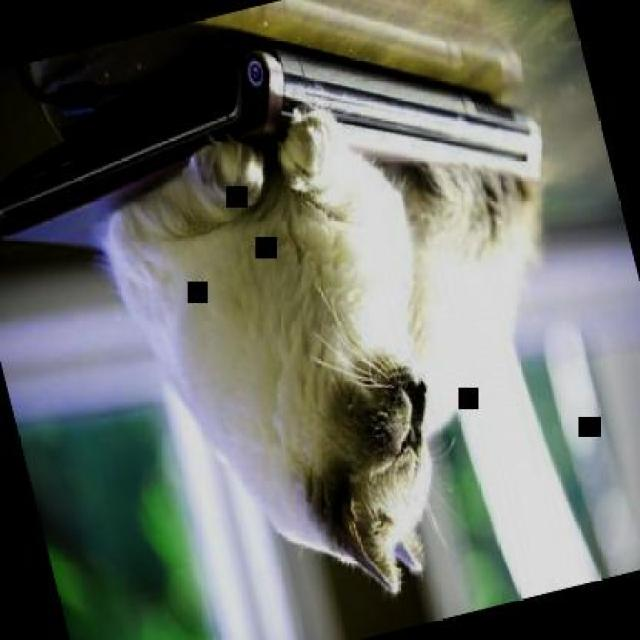cat: (85, 63, 624, 639)
